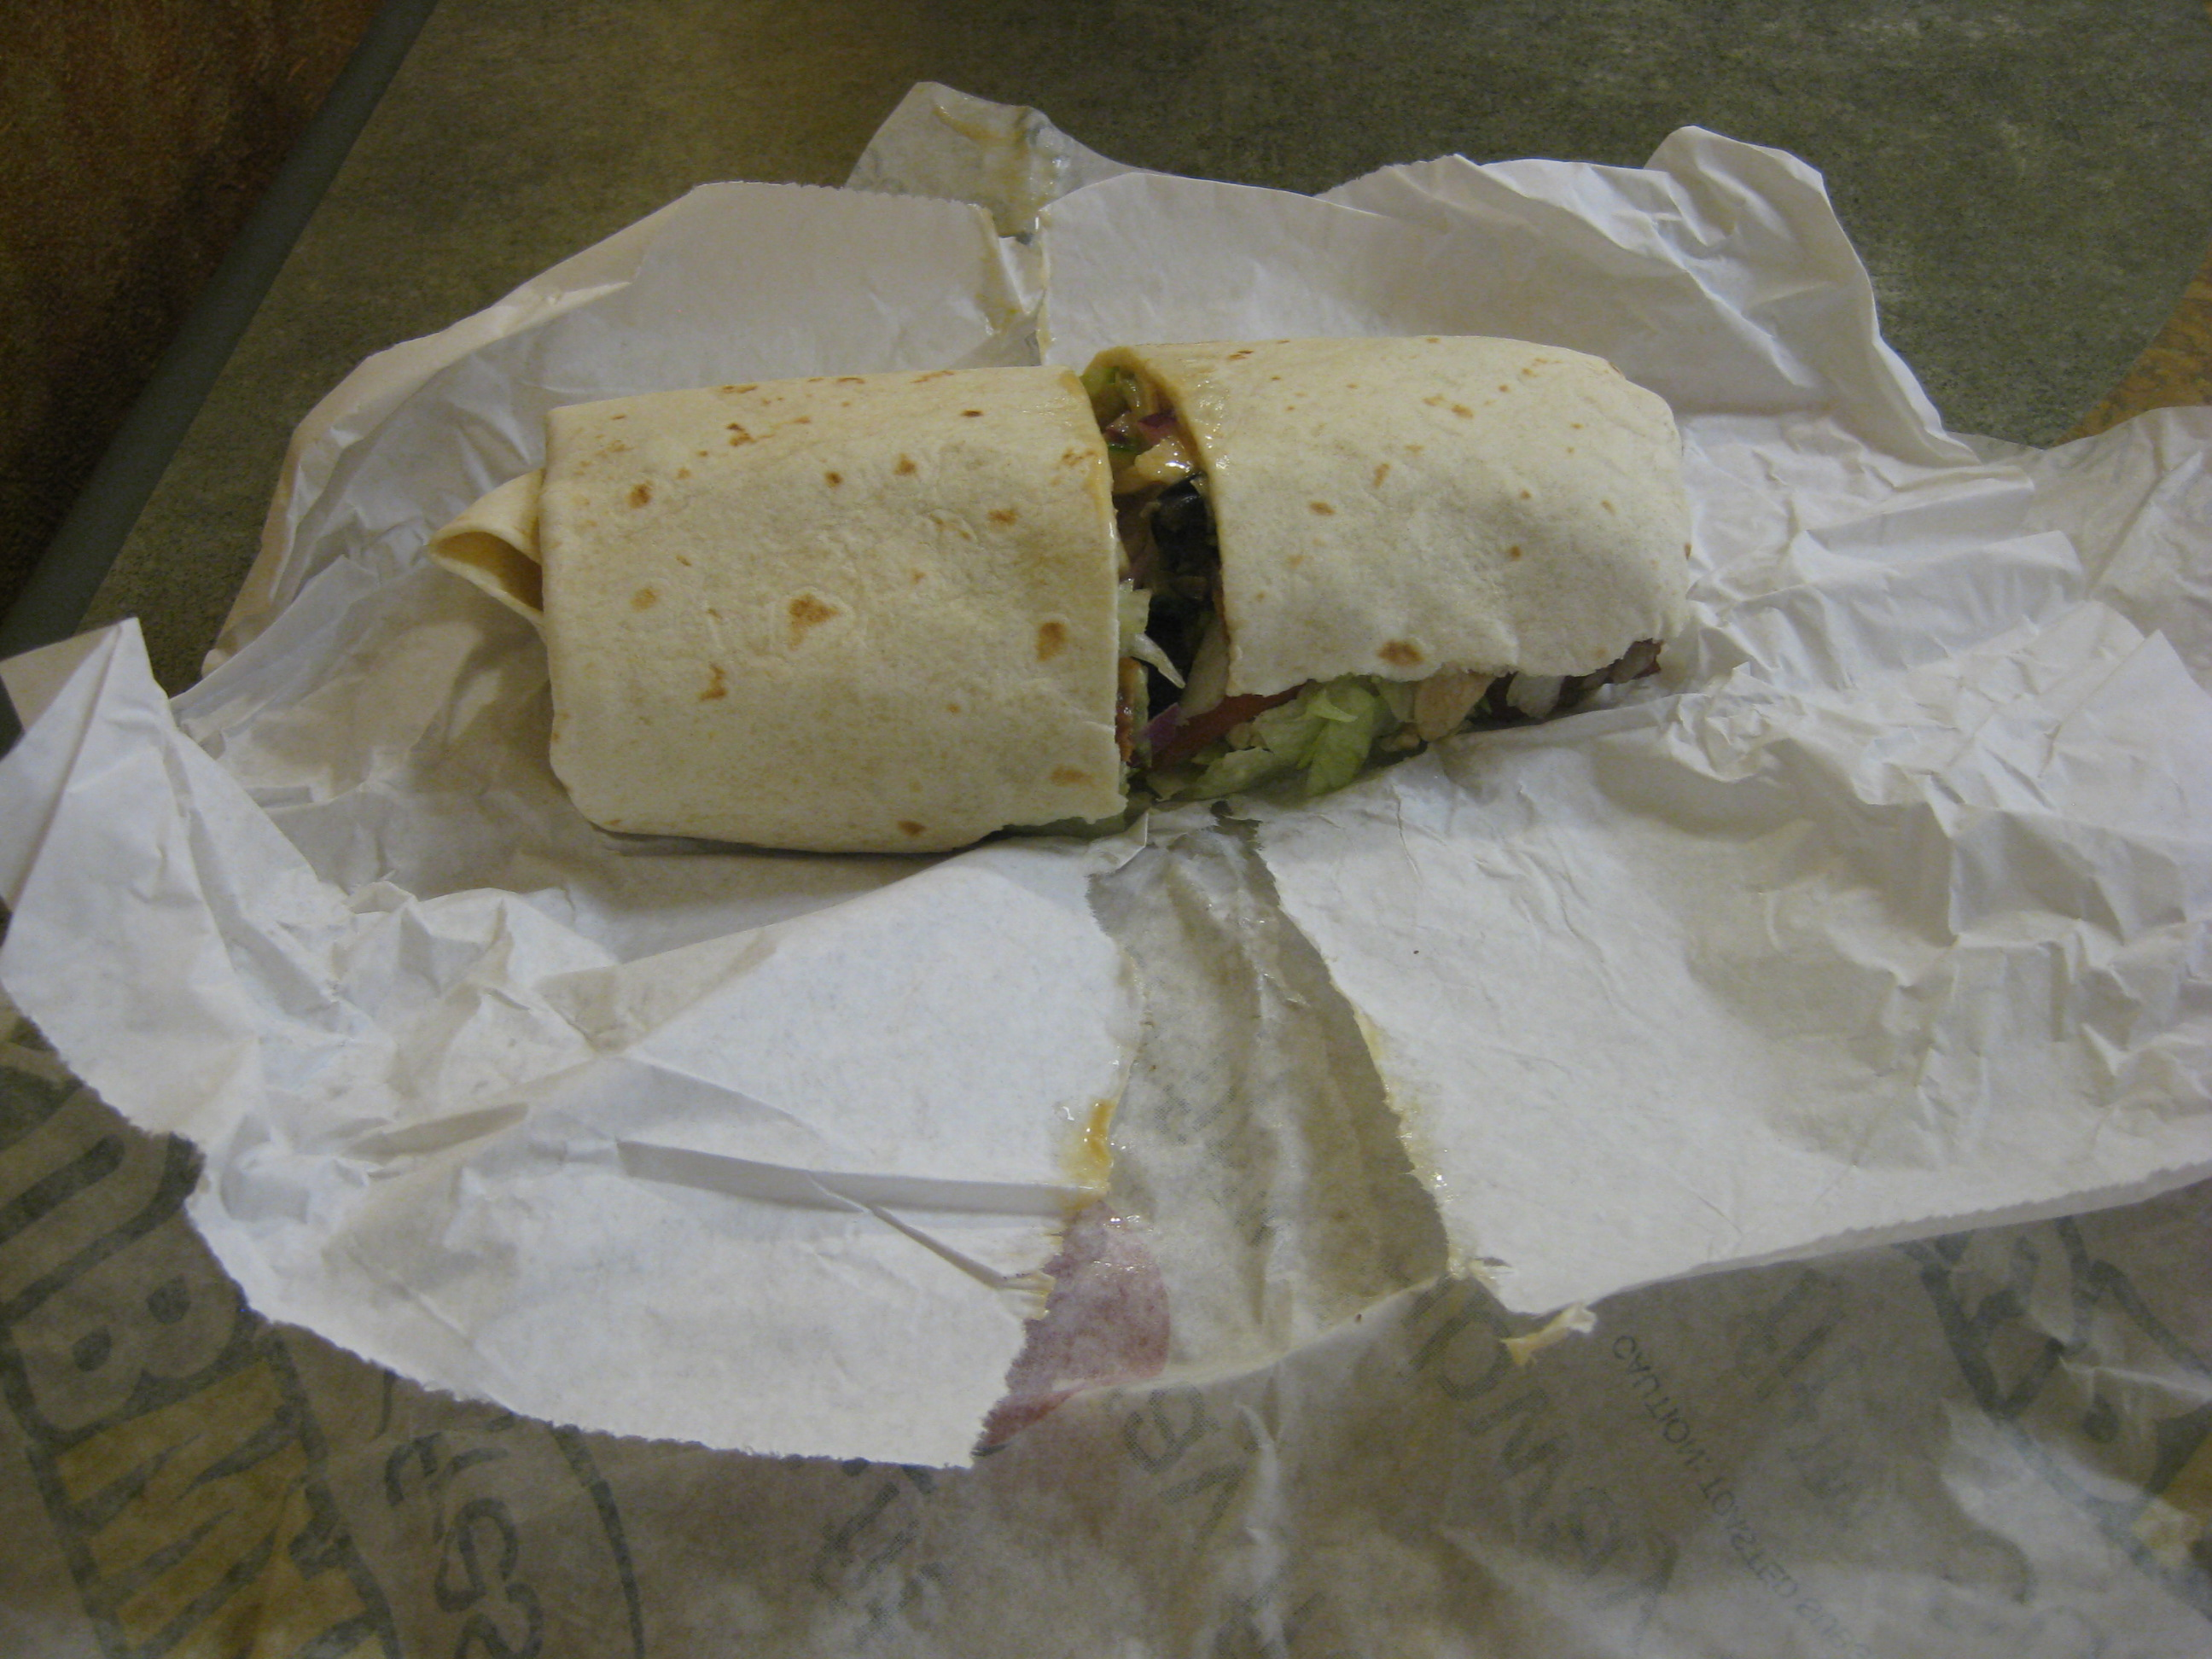burrito: (422, 314, 1770, 894)
